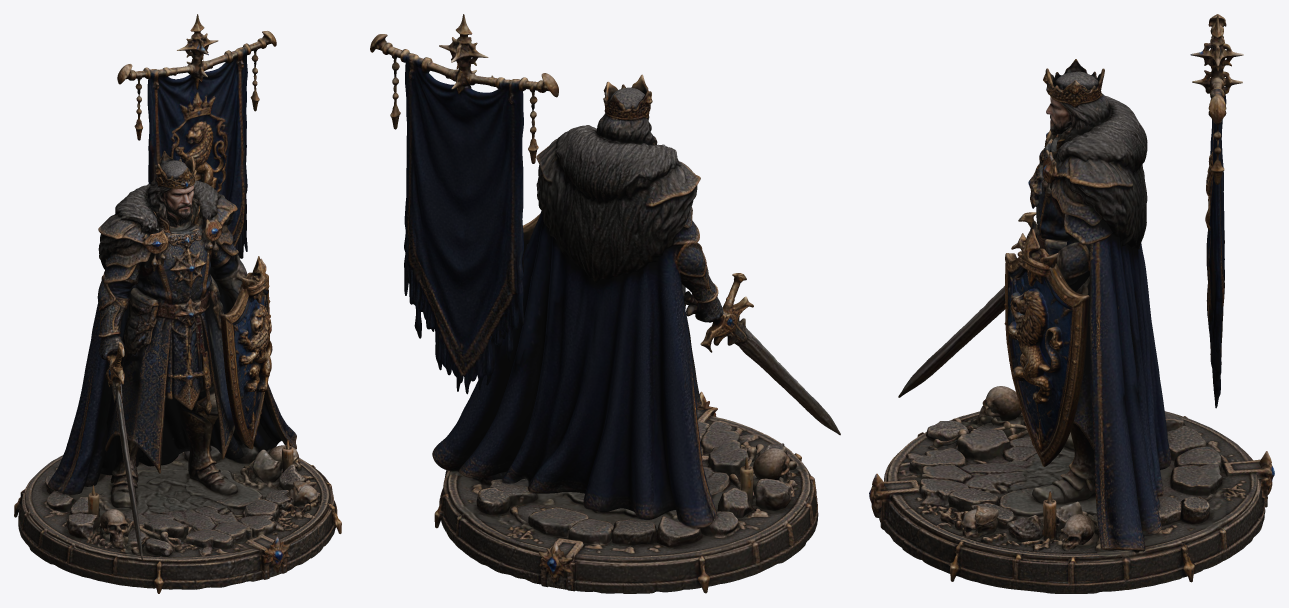
Rendered from Алдрик.glb.
3 views of the same model, side by side, from view 1: azimuth 30°, elevation 25°; view 2: azimuth 150°, elevation 25°; view 3: azimuth 270°, elevation 25° (orthographic). The views are drawn at different scales.
Parts seen in each view (by area): view 1: tripo_node_a4026c42-d213-4658-9726-9188ef5ea696; view 2: tripo_node_a4026c42-d213-4658-9726-9188ef5ea696; view 3: tripo_node_a4026c42-d213-4658-9726-9188ef5ea696.
Part boxes in pixels (left/top/right/bottom): tripo_node_a4026c42-d213-4658-9726-9188ef5ea696: left=14, top=14, right=341, bottom=593; tripo_node_a4026c42-d213-4658-9726-9188ef5ea696: left=370, top=14, right=840, bottom=593; tripo_node_a4026c42-d213-4658-9726-9188ef5ea696: left=869, top=14, right=1274, bottom=593.
Size of the model in its own units: 0.6924 by 1 by 0.6723.
Materials: 1 (1 with a texture image).
